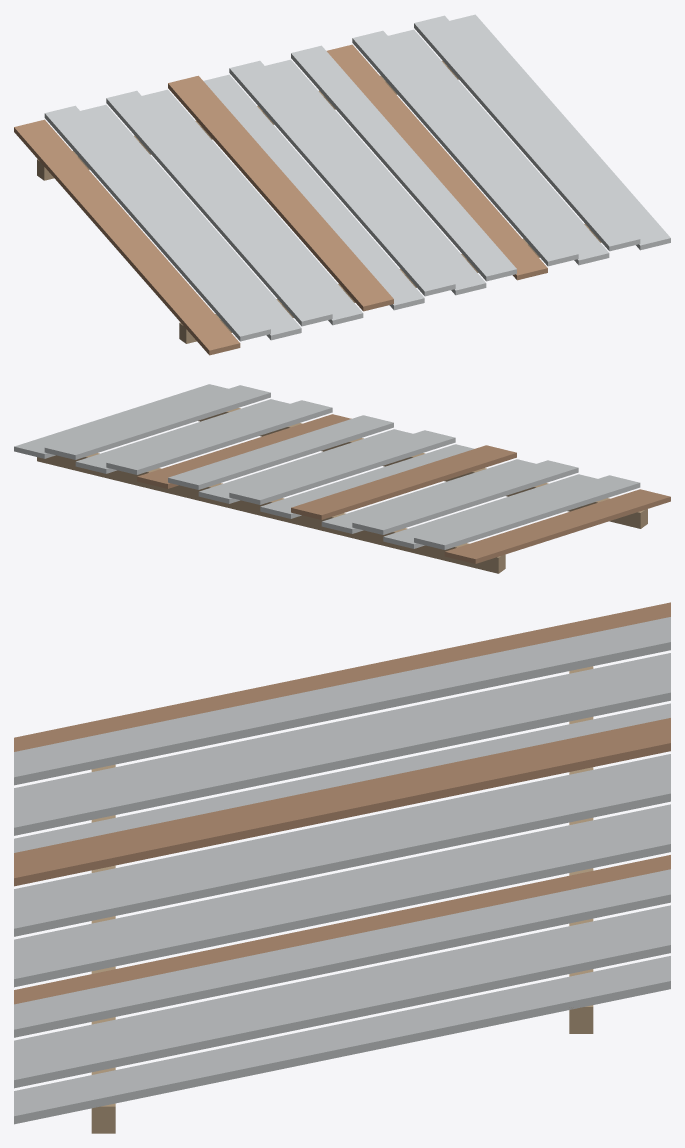
Rendered from fv_tinroof.glb.
3 views of the same model, one above another, from view 1: azimuth 30°, elevation 25°; view 2: azimuth 150°, elevation 25°; view 3: azimuth 270°, elevation 25° (orthographic). The views are drawn at different scales.
Parts seen in each view (by area): view 1: fv_tinroof; view 2: fv_tinroof; view 3: fv_tinroof.
Part boxes in pixels (x1,y1,x2,y2): fv_tinroof: (14, 14, 670, 355); fv_tinroof: (14, 384, 670, 573); fv_tinroof: (14, 602, 670, 1133).
Size of the model in its own units: 3 by 0.6039 by 2.2.
